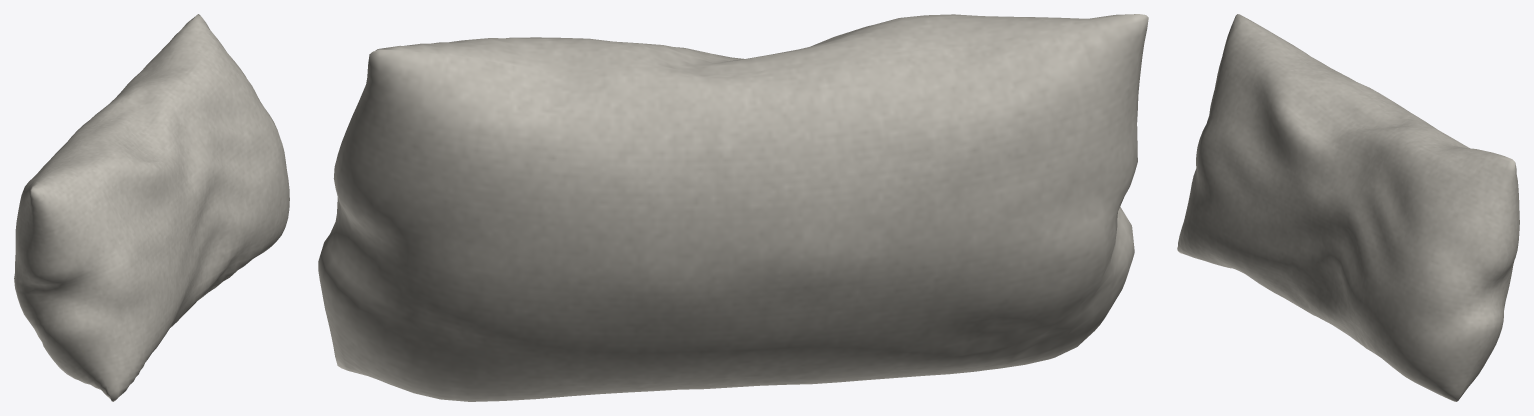
Rendered from bigPillow.fbx.
The picture shows the model from 3 angles, left to right: view 1: azimuth 30°, elevation 25°; view 2: azimuth 150°, elevation 25°; view 3: azimuth 270°, elevation 25°; orthographic projection. The views are drawn at different scales.
Parts seen in each view (by area): view 1: defaultMaterial.030; view 2: defaultMaterial.030; view 3: defaultMaterial.030.
Boxes of the visible parts, x1,y1,x2,y2 form: defaultMaterial.030: (14,14,289,401); defaultMaterial.030: (318,14,1148,401); defaultMaterial.030: (1177,14,1519,401).
Size of the model in its own units: 115 by 67.02 by 92.71.
Materials: 1 (1 with a texture image).
